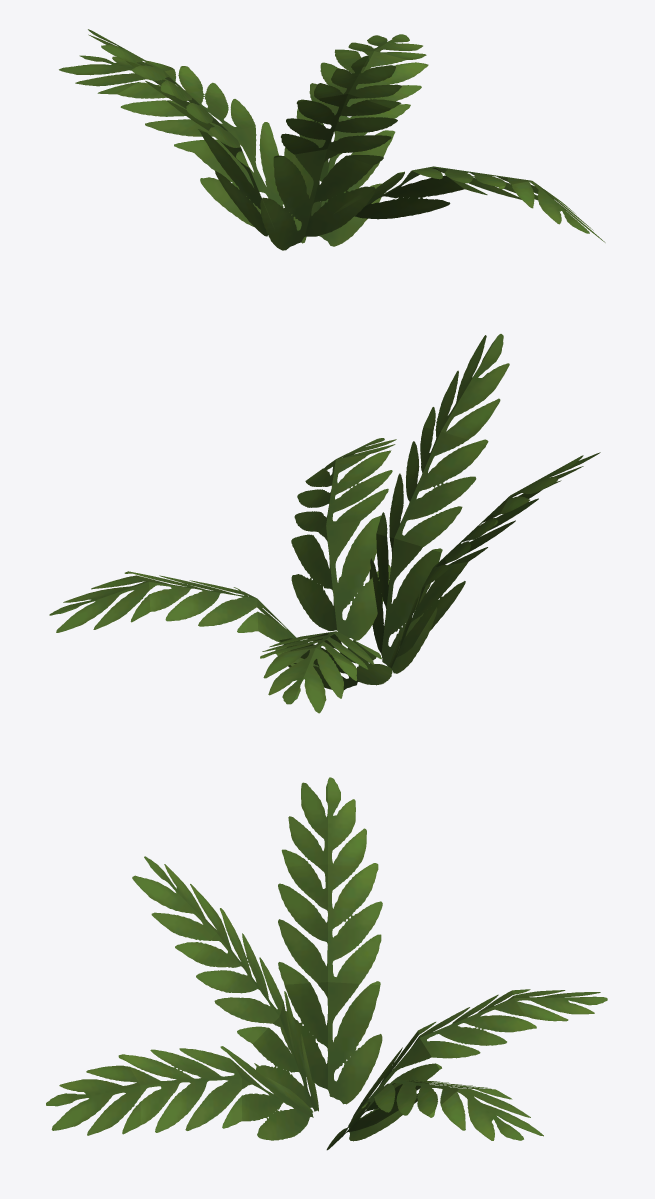
Rendered from fern_01.fbx.
3 renders of one model, top to bottom at view 1: azimuth 30°, elevation 25°; view 2: azimuth 150°, elevation 25°; view 3: azimuth 270°, elevation 25°, orthographic. The views are drawn at different scales.
Parts seen in each view (by area): view 1: obj0.046; view 2: obj0.046; view 3: obj0.046.
Boxes of the visible parts, x1=… form: obj0.046: x1=59, y1=29, x2=605, y2=250; obj0.046: x1=49, y1=334, x2=600, y2=713; obj0.046: x1=46, y1=777, x2=607, y2=1150.
Bounding box in the file's own units: 2.33 × 1.4 × 2.75.
